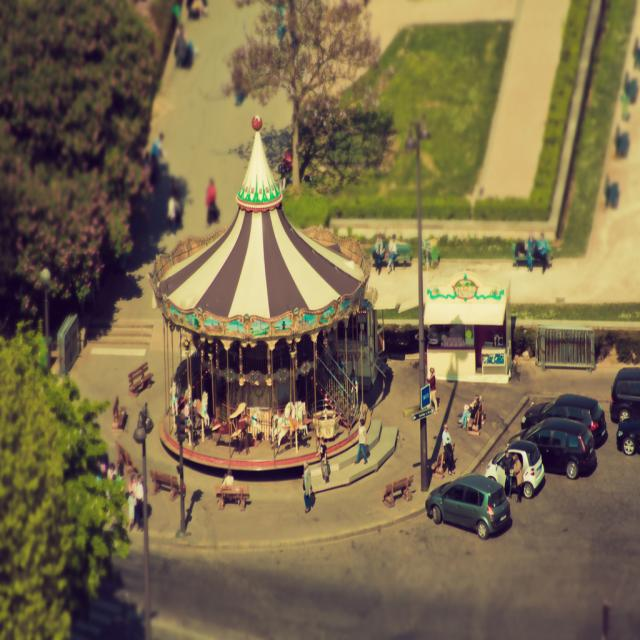car: (430, 468, 520, 539)
